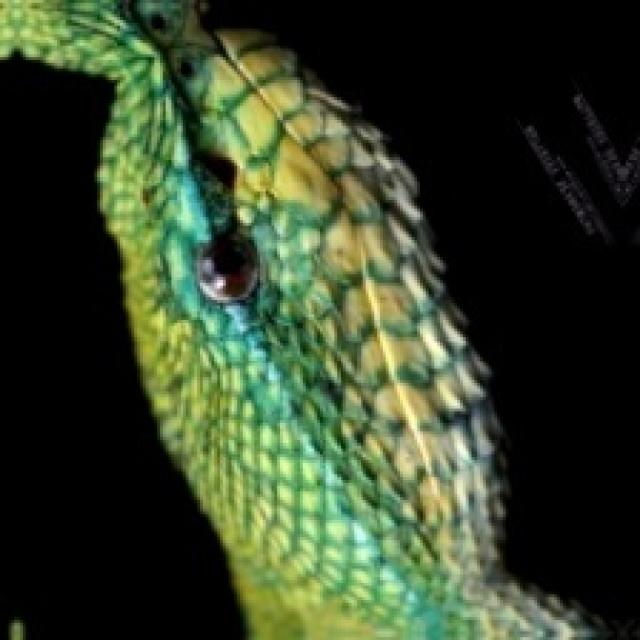north ph temple pitviper: (1, 0, 588, 639)
